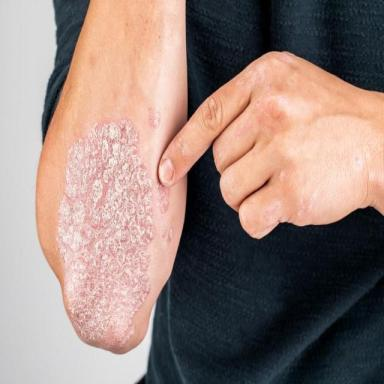Psoriasis: (57, 118, 155, 347), (157, 184, 170, 213), (149, 107, 161, 127), (163, 227, 173, 242)
